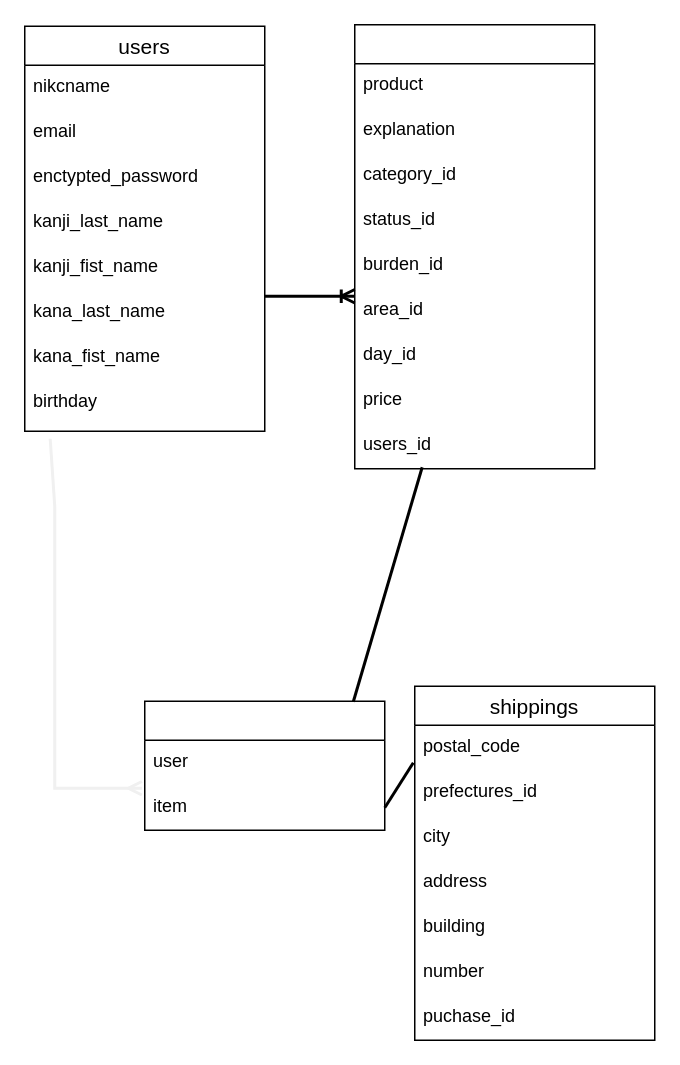
Some shapes in this 680 by 1065 pixel diagram are drawn without their labels. The shapes that lost their labels are listed below. From the top down, each one's box as (x1, y1, x2, y2) in pixels, then its label:
(353, 23, 595, 469): items
(143, 700, 385, 830): purchase
